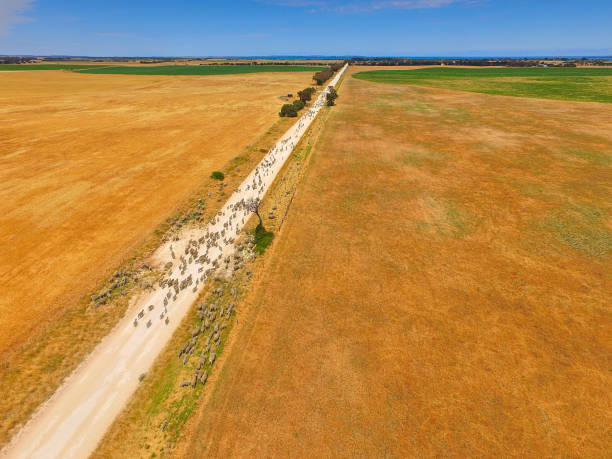sheep: (207, 350, 216, 369), (163, 261, 176, 273), (191, 374, 201, 389), (136, 306, 146, 320), (145, 317, 155, 330), (202, 369, 209, 387), (178, 279, 189, 290), (189, 235, 199, 247), (178, 256, 186, 270), (179, 380, 190, 390), (130, 318, 139, 330), (190, 248, 199, 259), (207, 233, 216, 244), (195, 356, 202, 370), (186, 343, 194, 355), (168, 248, 176, 260), (183, 245, 191, 257), (196, 265, 205, 275), (161, 317, 172, 325), (159, 295, 167, 306), (166, 288, 174, 299), (211, 330, 217, 344), (200, 235, 206, 246), (216, 230, 224, 238), (191, 284, 197, 294), (146, 305, 155, 311), (166, 277, 172, 286), (201, 253, 207, 262), (192, 327, 197, 337), (195, 277, 201, 284), (228, 236, 232, 243)
